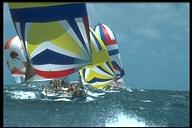sailboat: (7, 3, 92, 102), (70, 26, 120, 94), (90, 22, 126, 89), (4, 35, 35, 85)
sky: (129, 4, 188, 90)
water: (6, 104, 188, 125)
